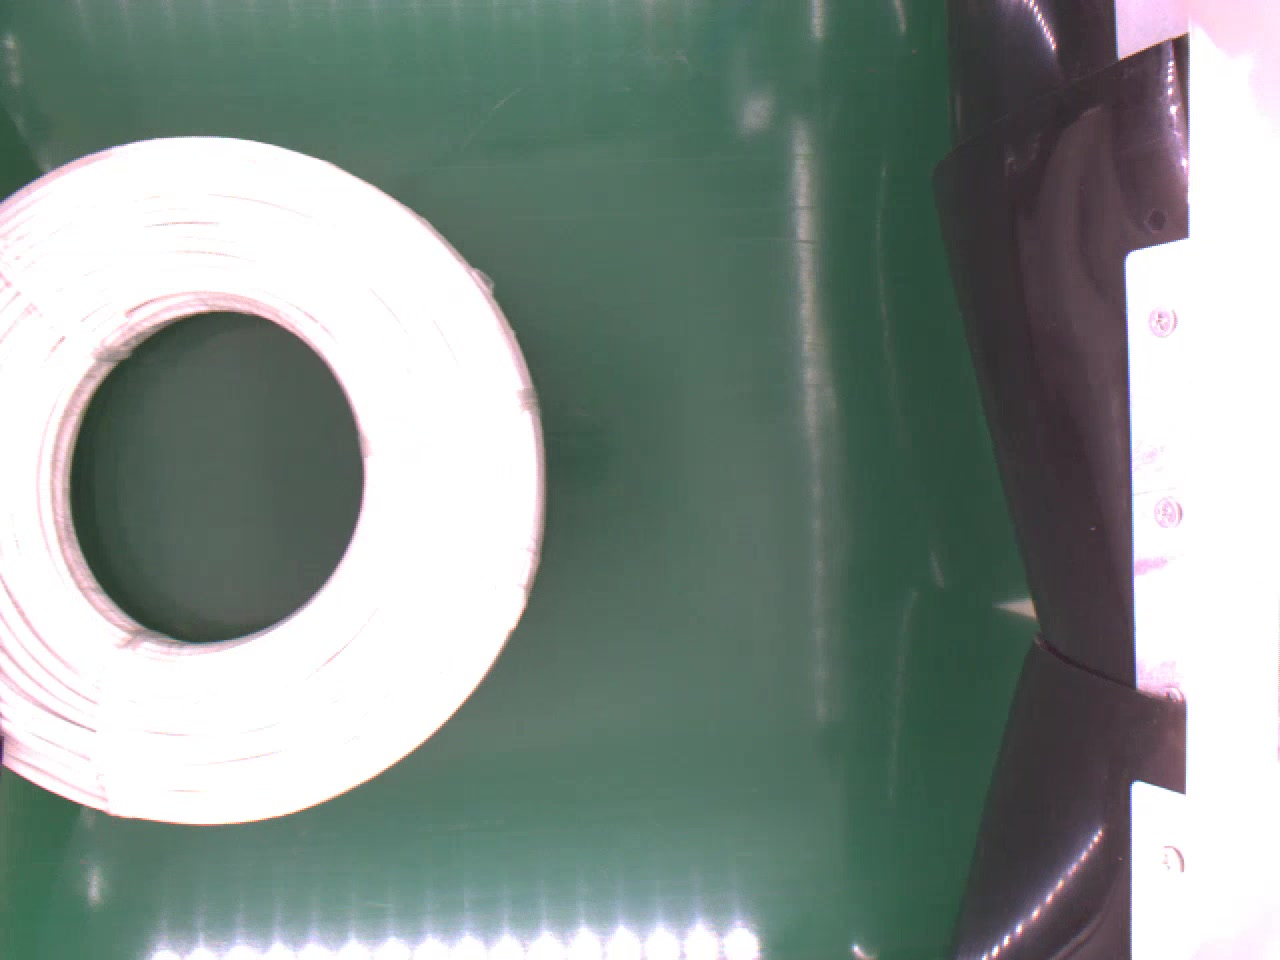white: (0, 130, 549, 828)
